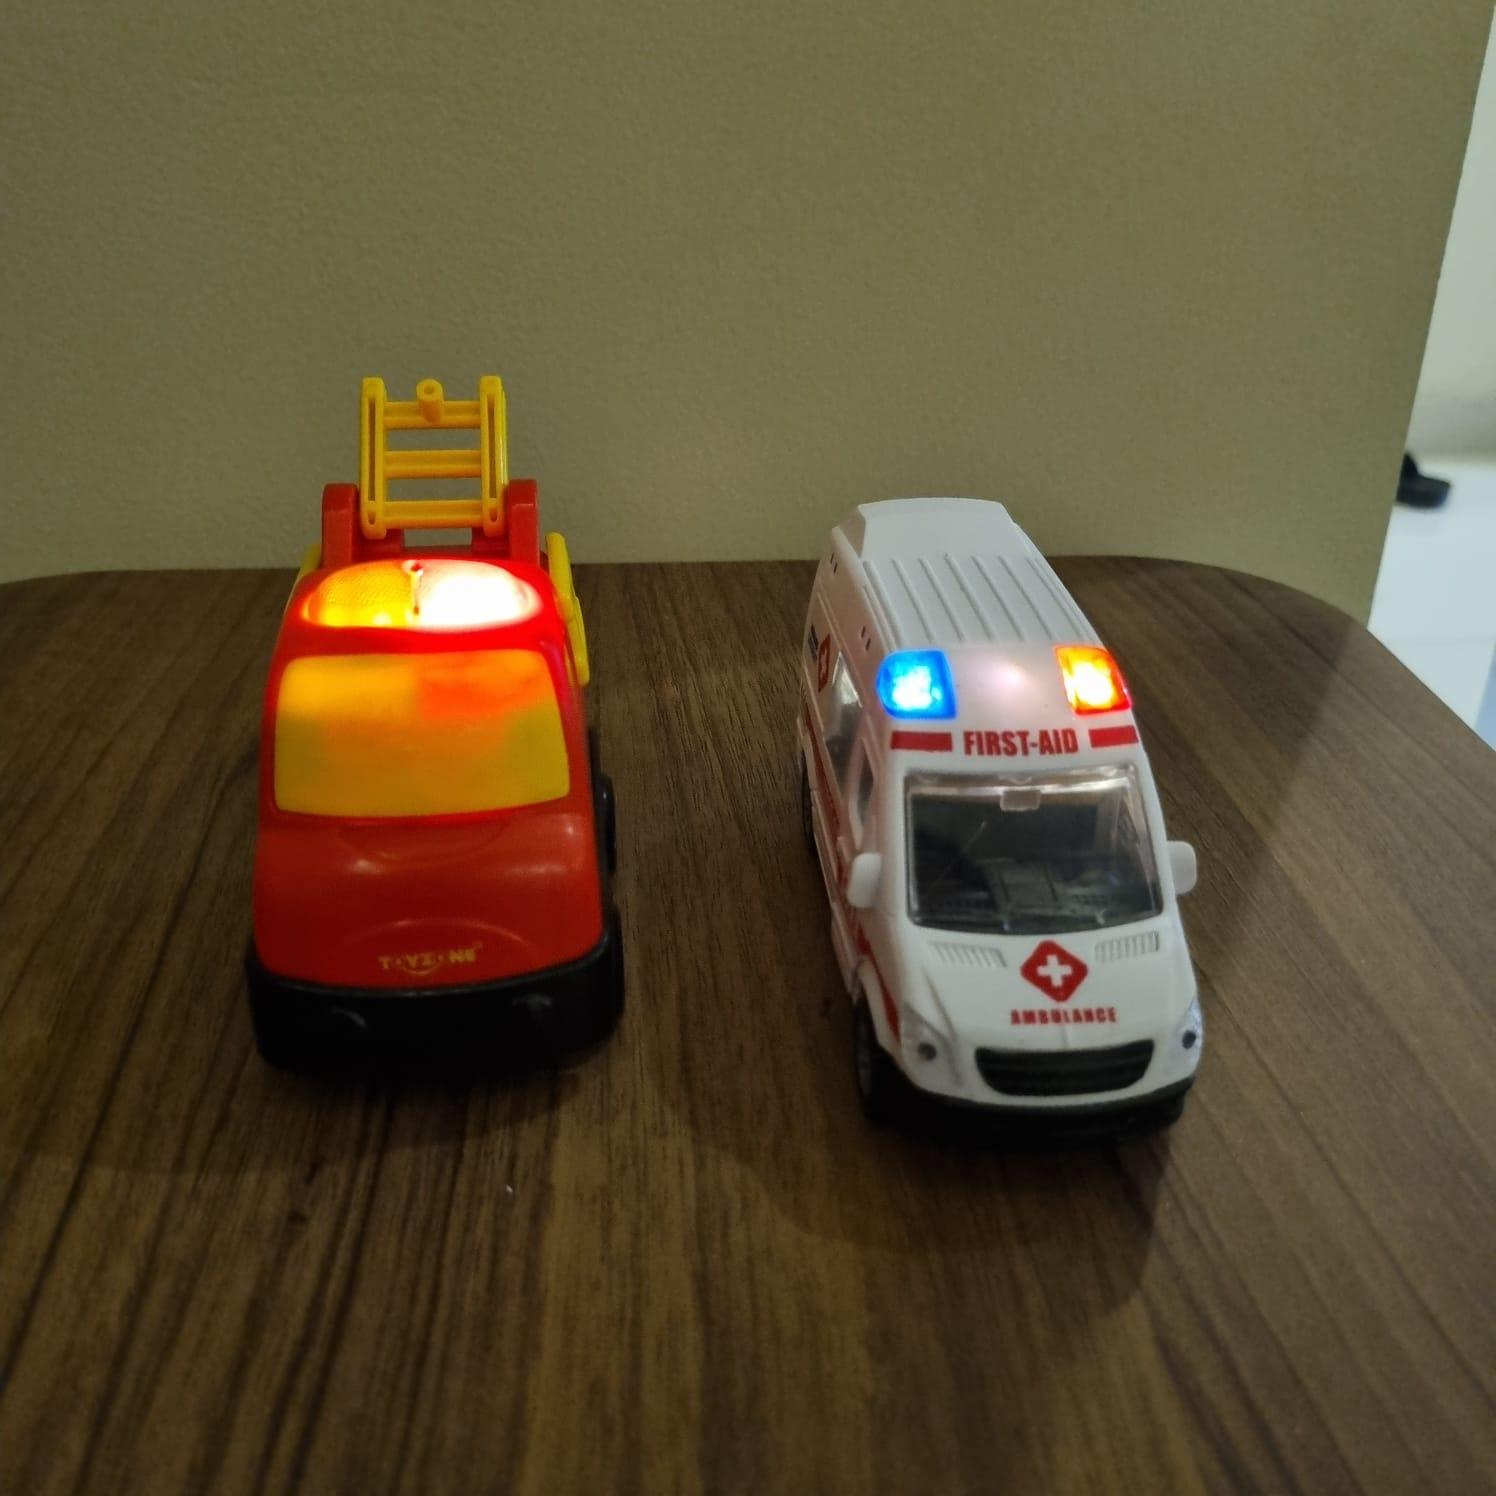ambulance_on: (796, 493, 1206, 1138)
firetruck_on: (242, 375, 623, 1069)
